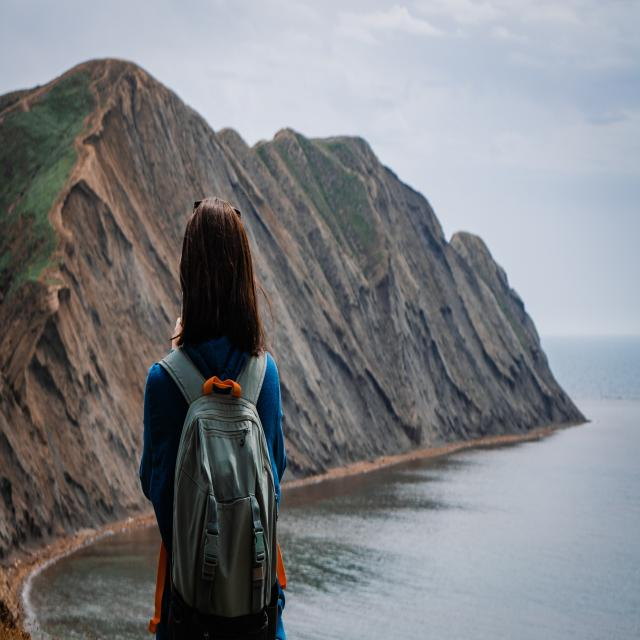backpack: (156, 345, 282, 640)
